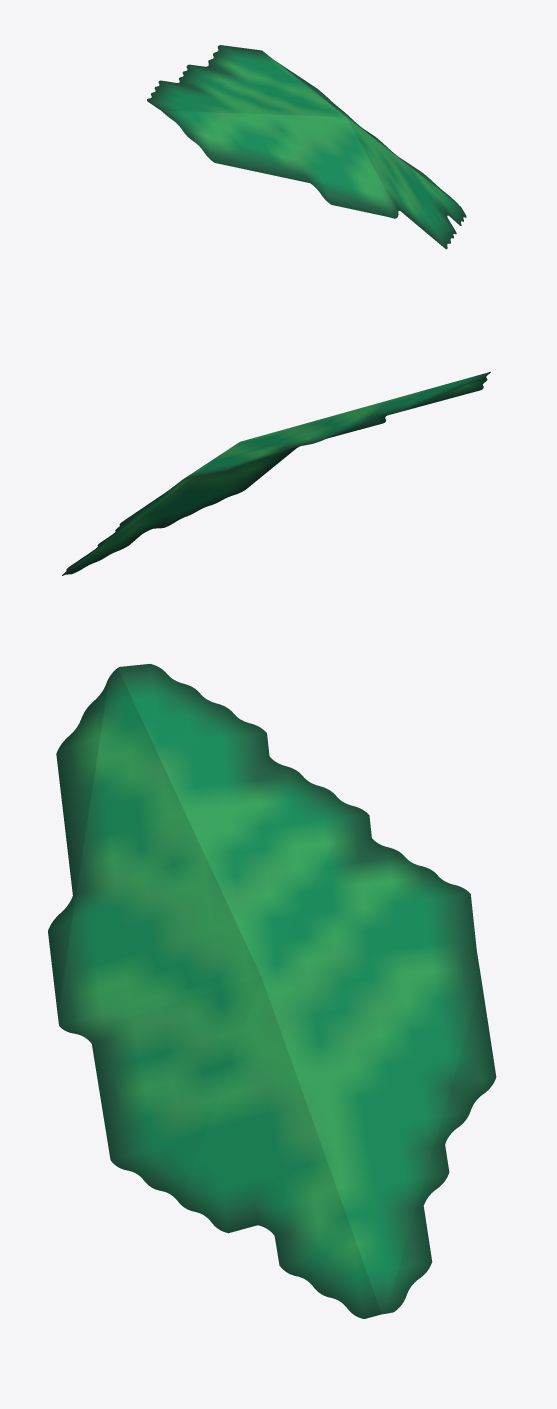
The model's file is pje_plant_leaf.fbx.
The picture shows the model from 3 angles, top to bottom: view 1: azimuth 30°, elevation 25°; view 2: azimuth 150°, elevation 25°; view 3: azimuth 270°, elevation 25°; orthographic projection. The views are drawn at different scales.
Visible parts, largest first — view 1: leaf.001; view 2: leaf.001; view 3: leaf.001.
Part boxes in pixels (bbox=[...]): leaf.001: bbox=[147, 45, 466, 249]; leaf.001: bbox=[62, 371, 490, 575]; leaf.001: bbox=[48, 664, 496, 1318].
Bounding box in the file's own units: 17.96 × 13.7 × 13.52.
Materials: 1 (1 with a texture image).
